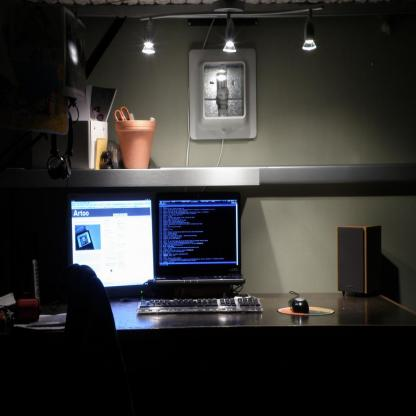board: (150, 193, 246, 294), (115, 105, 131, 121)
